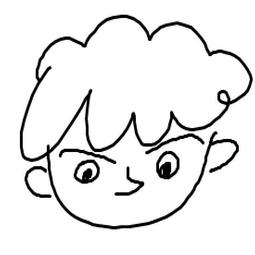ear: (19, 164, 52, 201), (207, 137, 239, 174)
eye: (154, 150, 182, 181), (71, 159, 101, 187)
frowning_eyebrow: (144, 130, 205, 153), (60, 142, 117, 166)
pointy_nose: (112, 165, 145, 199)
